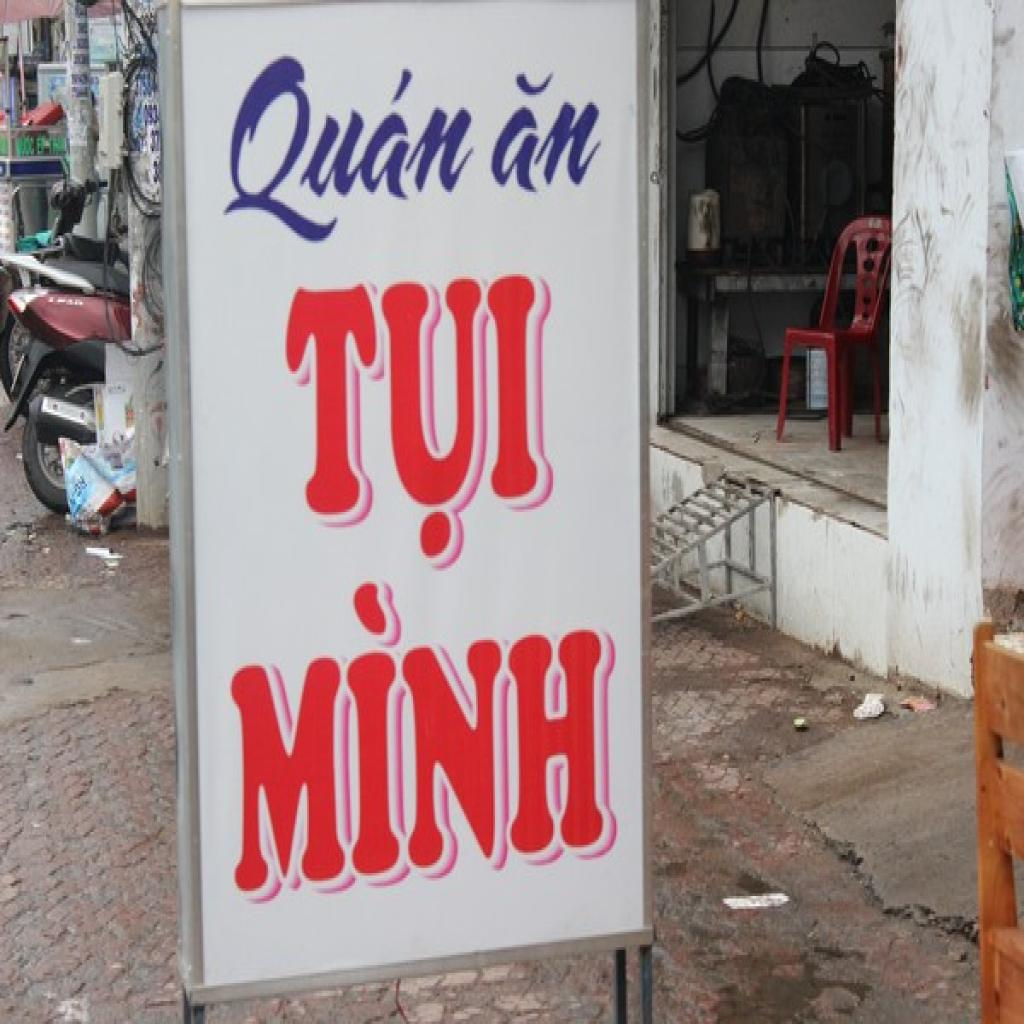text: (282, 272, 550, 574), (215, 46, 488, 264), (486, 66, 614, 204)
